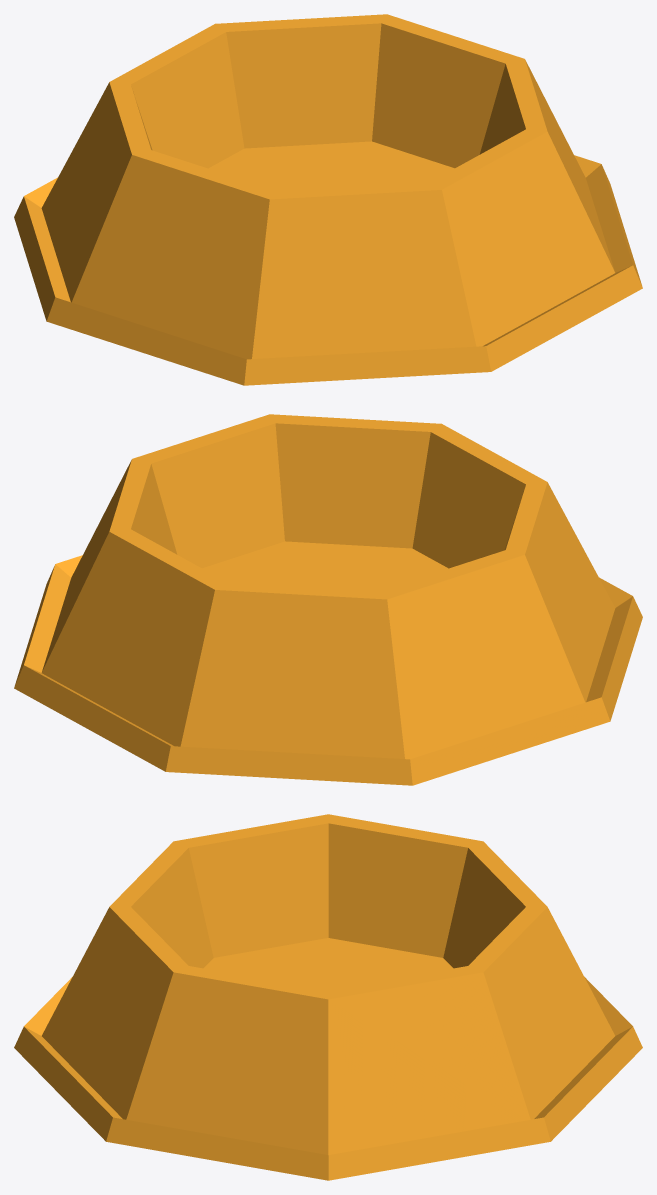
File: SM_Bowl_Dog_A.fbx
The picture shows the model from 3 angles, top to bottom: view 1: azimuth 30°, elevation 25°; view 2: azimuth 150°, elevation 25°; view 3: azimuth 270°, elevation 25°; orthographic projection. The views are drawn at different scales.
Parts seen in each view (by area): view 1: bowl-dog-a; view 2: bowl-dog-a; view 3: bowl-dog-a.
Boxes of the visible parts, bbox=[...] form: bowl-dog-a: bbox=[14, 14, 642, 385]; bowl-dog-a: bbox=[14, 414, 642, 785]; bowl-dog-a: bbox=[14, 814, 642, 1180].
Size of the model in its own units: 0.2 by 0.0495 by 0.2.
